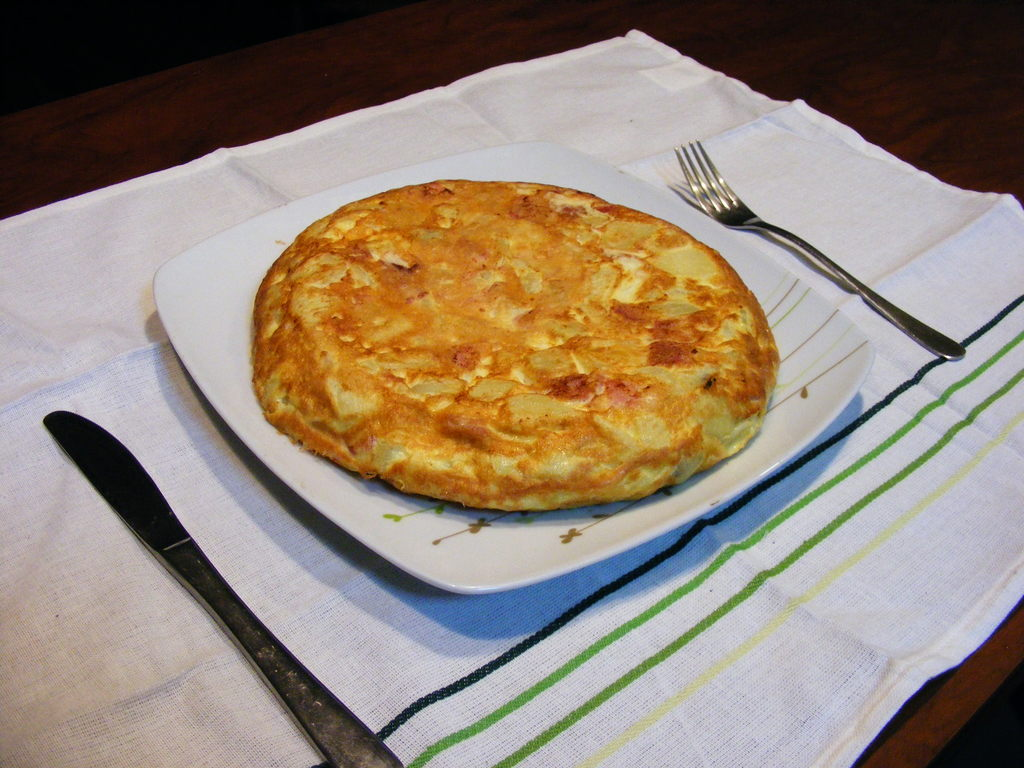fork: (671, 138, 966, 361)
